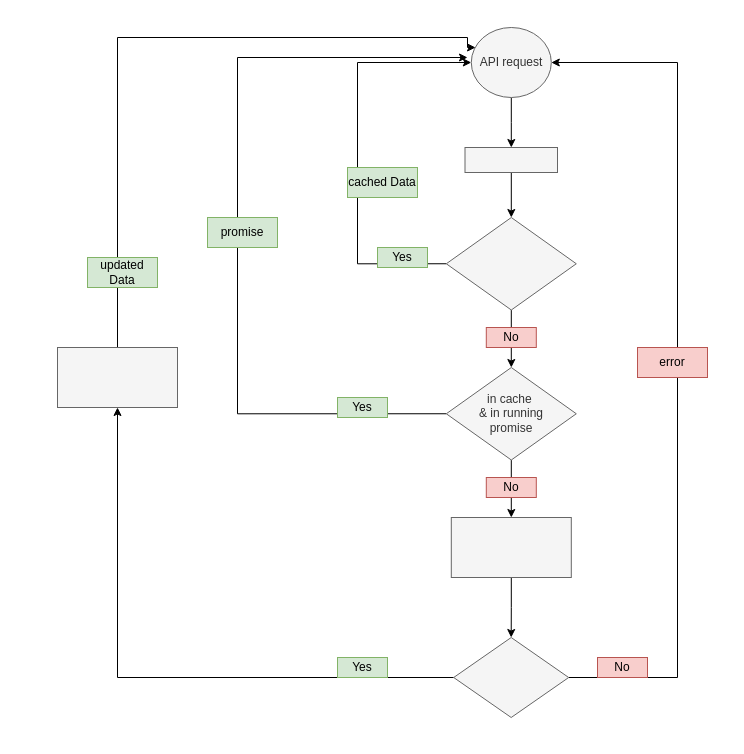
This 744x754 diagram has some shape labels left out. Here are the shapes that lost their labels. From the top down, the centre of each, then its label:
(x=511, y=159): API Endpoint
(x=510, y=263): in cache & not expire
(x=117, y=377): update Data in cache
(x=510, y=547): Create promise and get data from db
(x=511, y=677): Promise resolved
